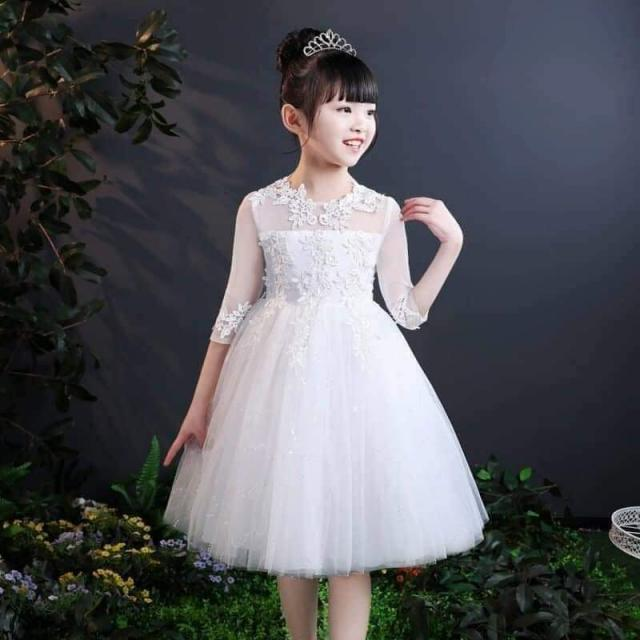clothes: (168, 172, 487, 579)
